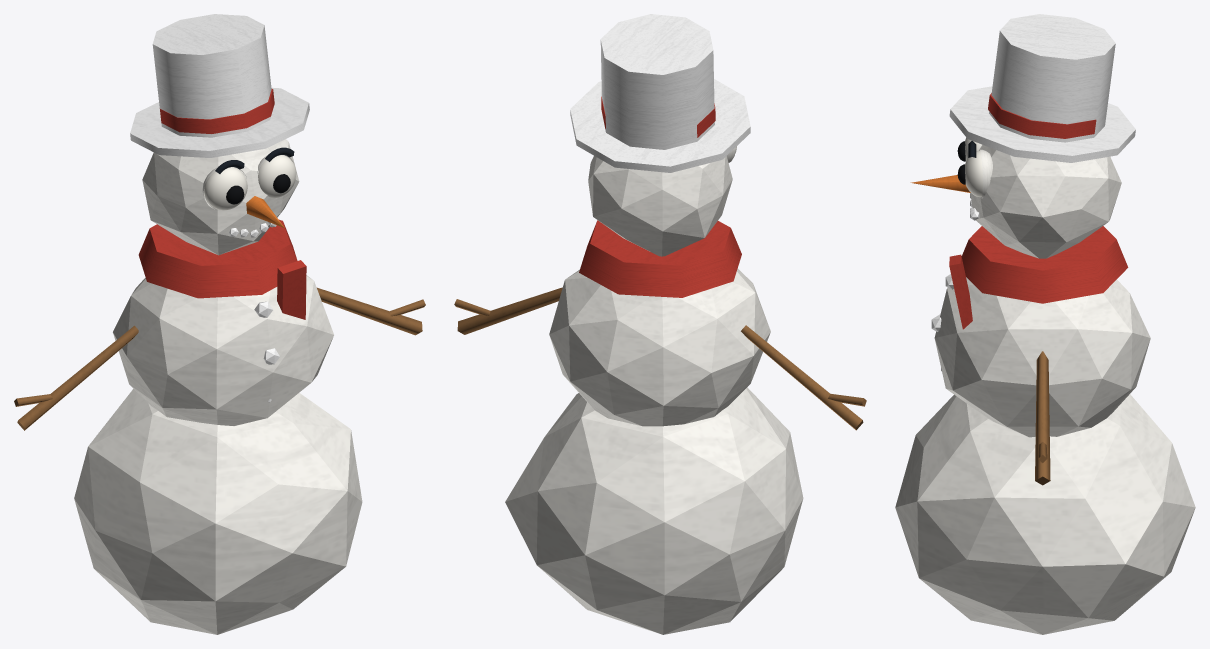
File: snowman.glb
3 renders of one model, left to right at view 1: azimuth 30°, elevation 25°; view 2: azimuth 150°, elevation 25°; view 3: azimuth 270°, elevation 25°, orthographic.
Parts seen in each view (by area): view 1: body, torso, head, shoulderR, shoulderL; view 2: body, torso, head, shoulderR, shoulderL; view 3: body, torso, head, shoulderL.
Part boxes in pixels (x1,y1,x2,y2): body: (74,389,362,634); torso: (113,219,333,425); head: (130,14,309,255); shoulderR: (14,325,138,430); shoulderL: (317,287,425,335); body: (505,387,803,634); torso: (549,220,770,426); head: (570,14,750,256); shoulderR: (741,325,866,430); shoulderL: (454,287,562,334); body: (895,394,1195,634); torso: (931,226,1150,437); head: (910,14,1135,258); shoulderL: (1035,351,1050,485).
Bounding box in the file's own units: 1.23 × 1.67 × 0.7716.
Materials: 14 (11 with a texture image).
